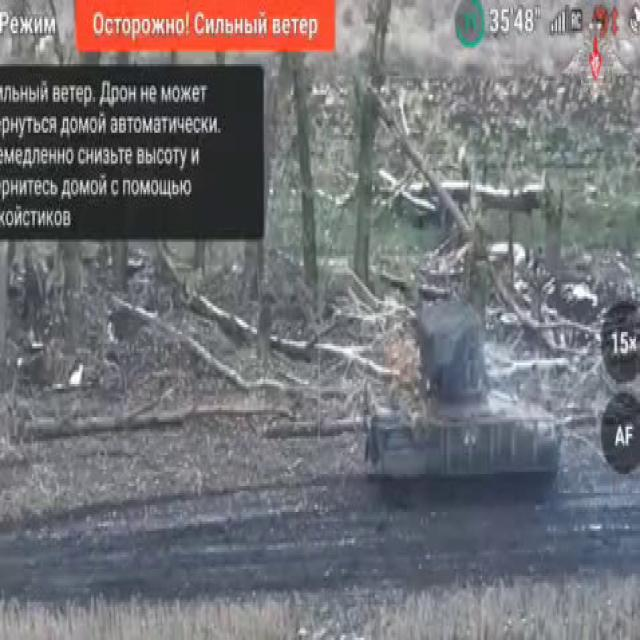vehicle: (360, 314, 564, 515)
